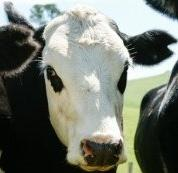muzzles: (77, 136, 128, 171)
